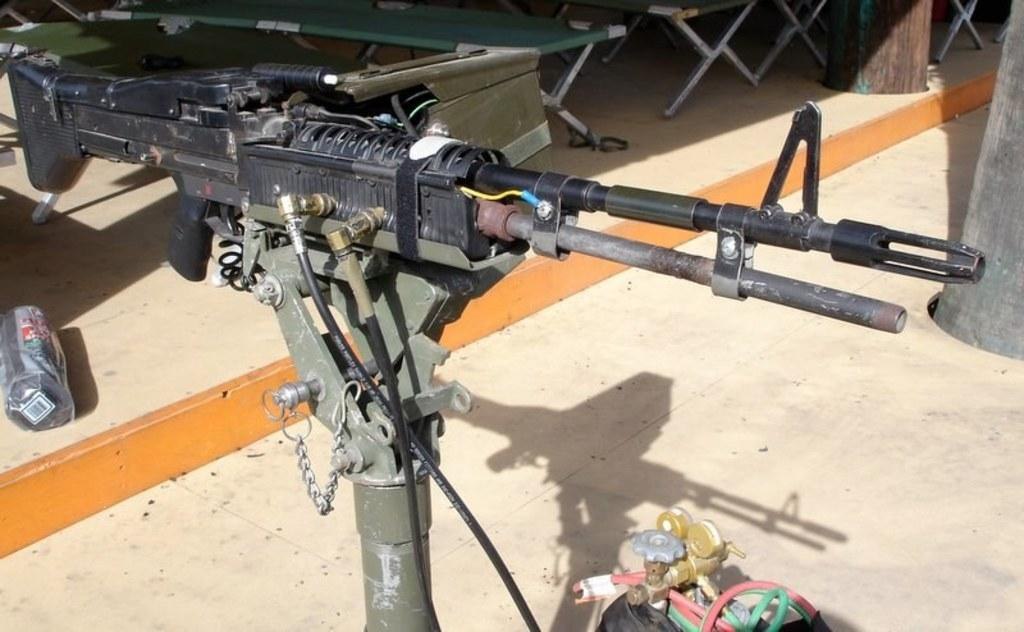Rifle: (14, 60, 911, 532)
